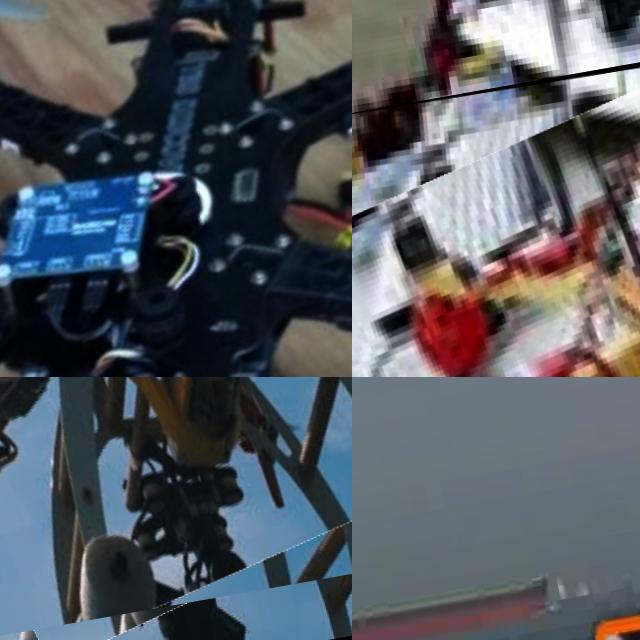drone: (0, 0, 352, 377), (352, 14, 640, 377), (0, 377, 352, 640)
